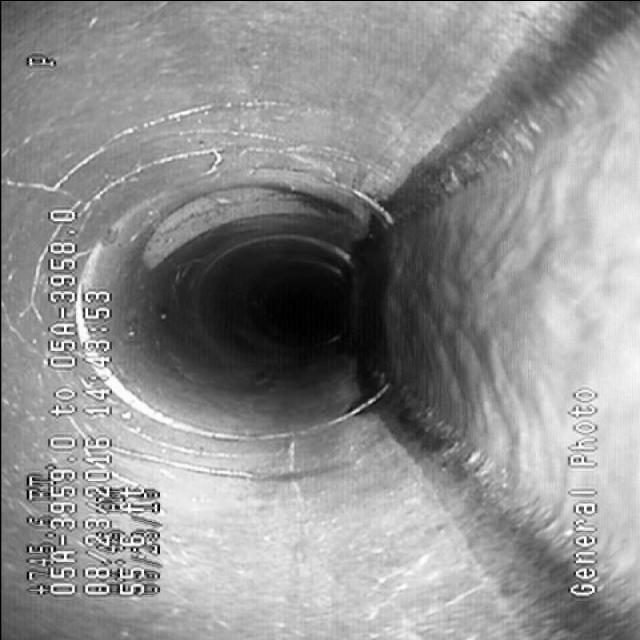Crack: (27, 86, 304, 194)
